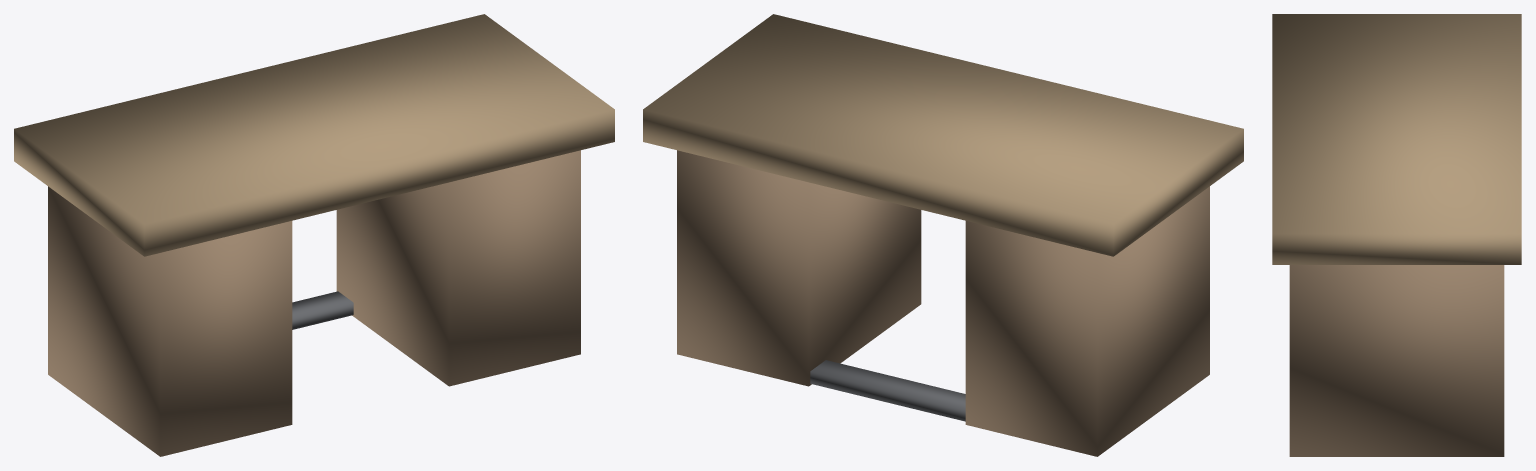
File: teacher_desk__reinforced.glb
3 views of the same model, side by side, from view 1: azimuth 30°, elevation 25°; view 2: azimuth 150°, elevation 25°; view 3: azimuth 270°, elevation 25° (orthographic). The views are drawn at different scales.
Visible parts, largest first — view 1: world; view 2: world; view 3: world.
Part boxes in pixels (<box>): world: <box>14,14,614,456</box>; world: <box>643,14,1243,456</box>; world: <box>1272,14,1521,456</box>.
Bounding box in the file's own units: 1.54 × 0.7701 × 0.7416.
